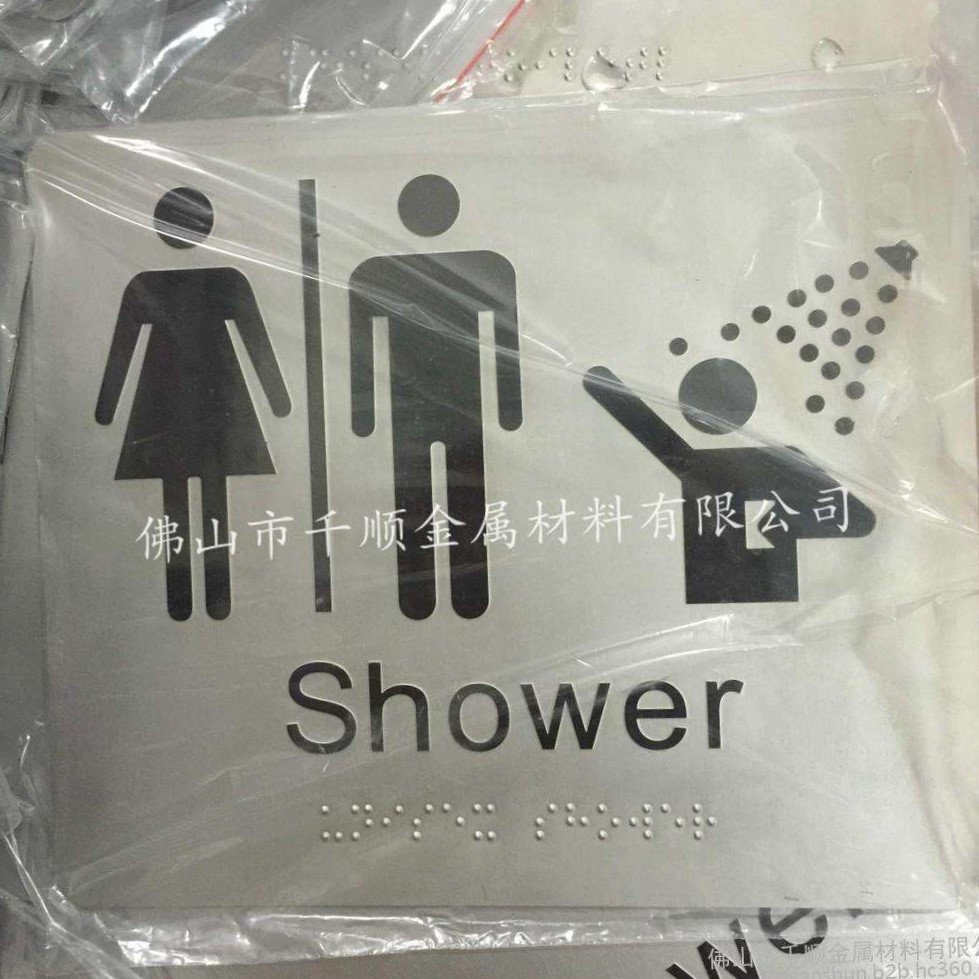Braille: (691, 803, 718, 843), (595, 802, 621, 842), (319, 804, 345, 843), (440, 802, 466, 841), (628, 803, 654, 841), (659, 803, 685, 841), (380, 804, 405, 843), (411, 803, 436, 842), (350, 804, 374, 843), (472, 803, 496, 842), (534, 803, 557, 841), (565, 803, 588, 841)
